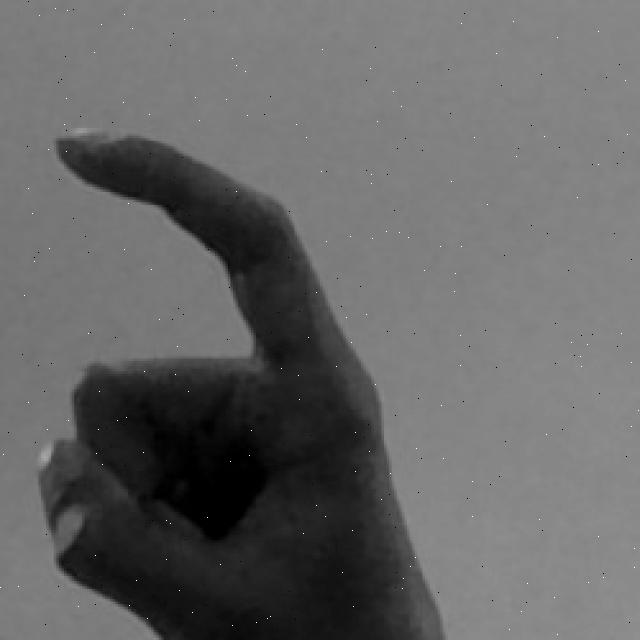X: (24, 122, 450, 640)
